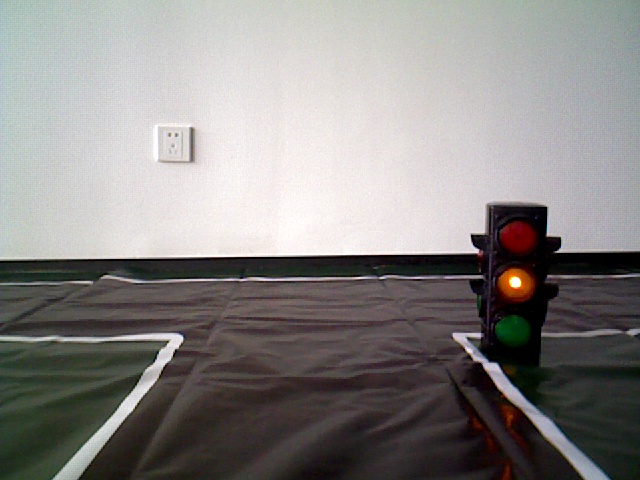yellow: (490, 203, 545, 352)
